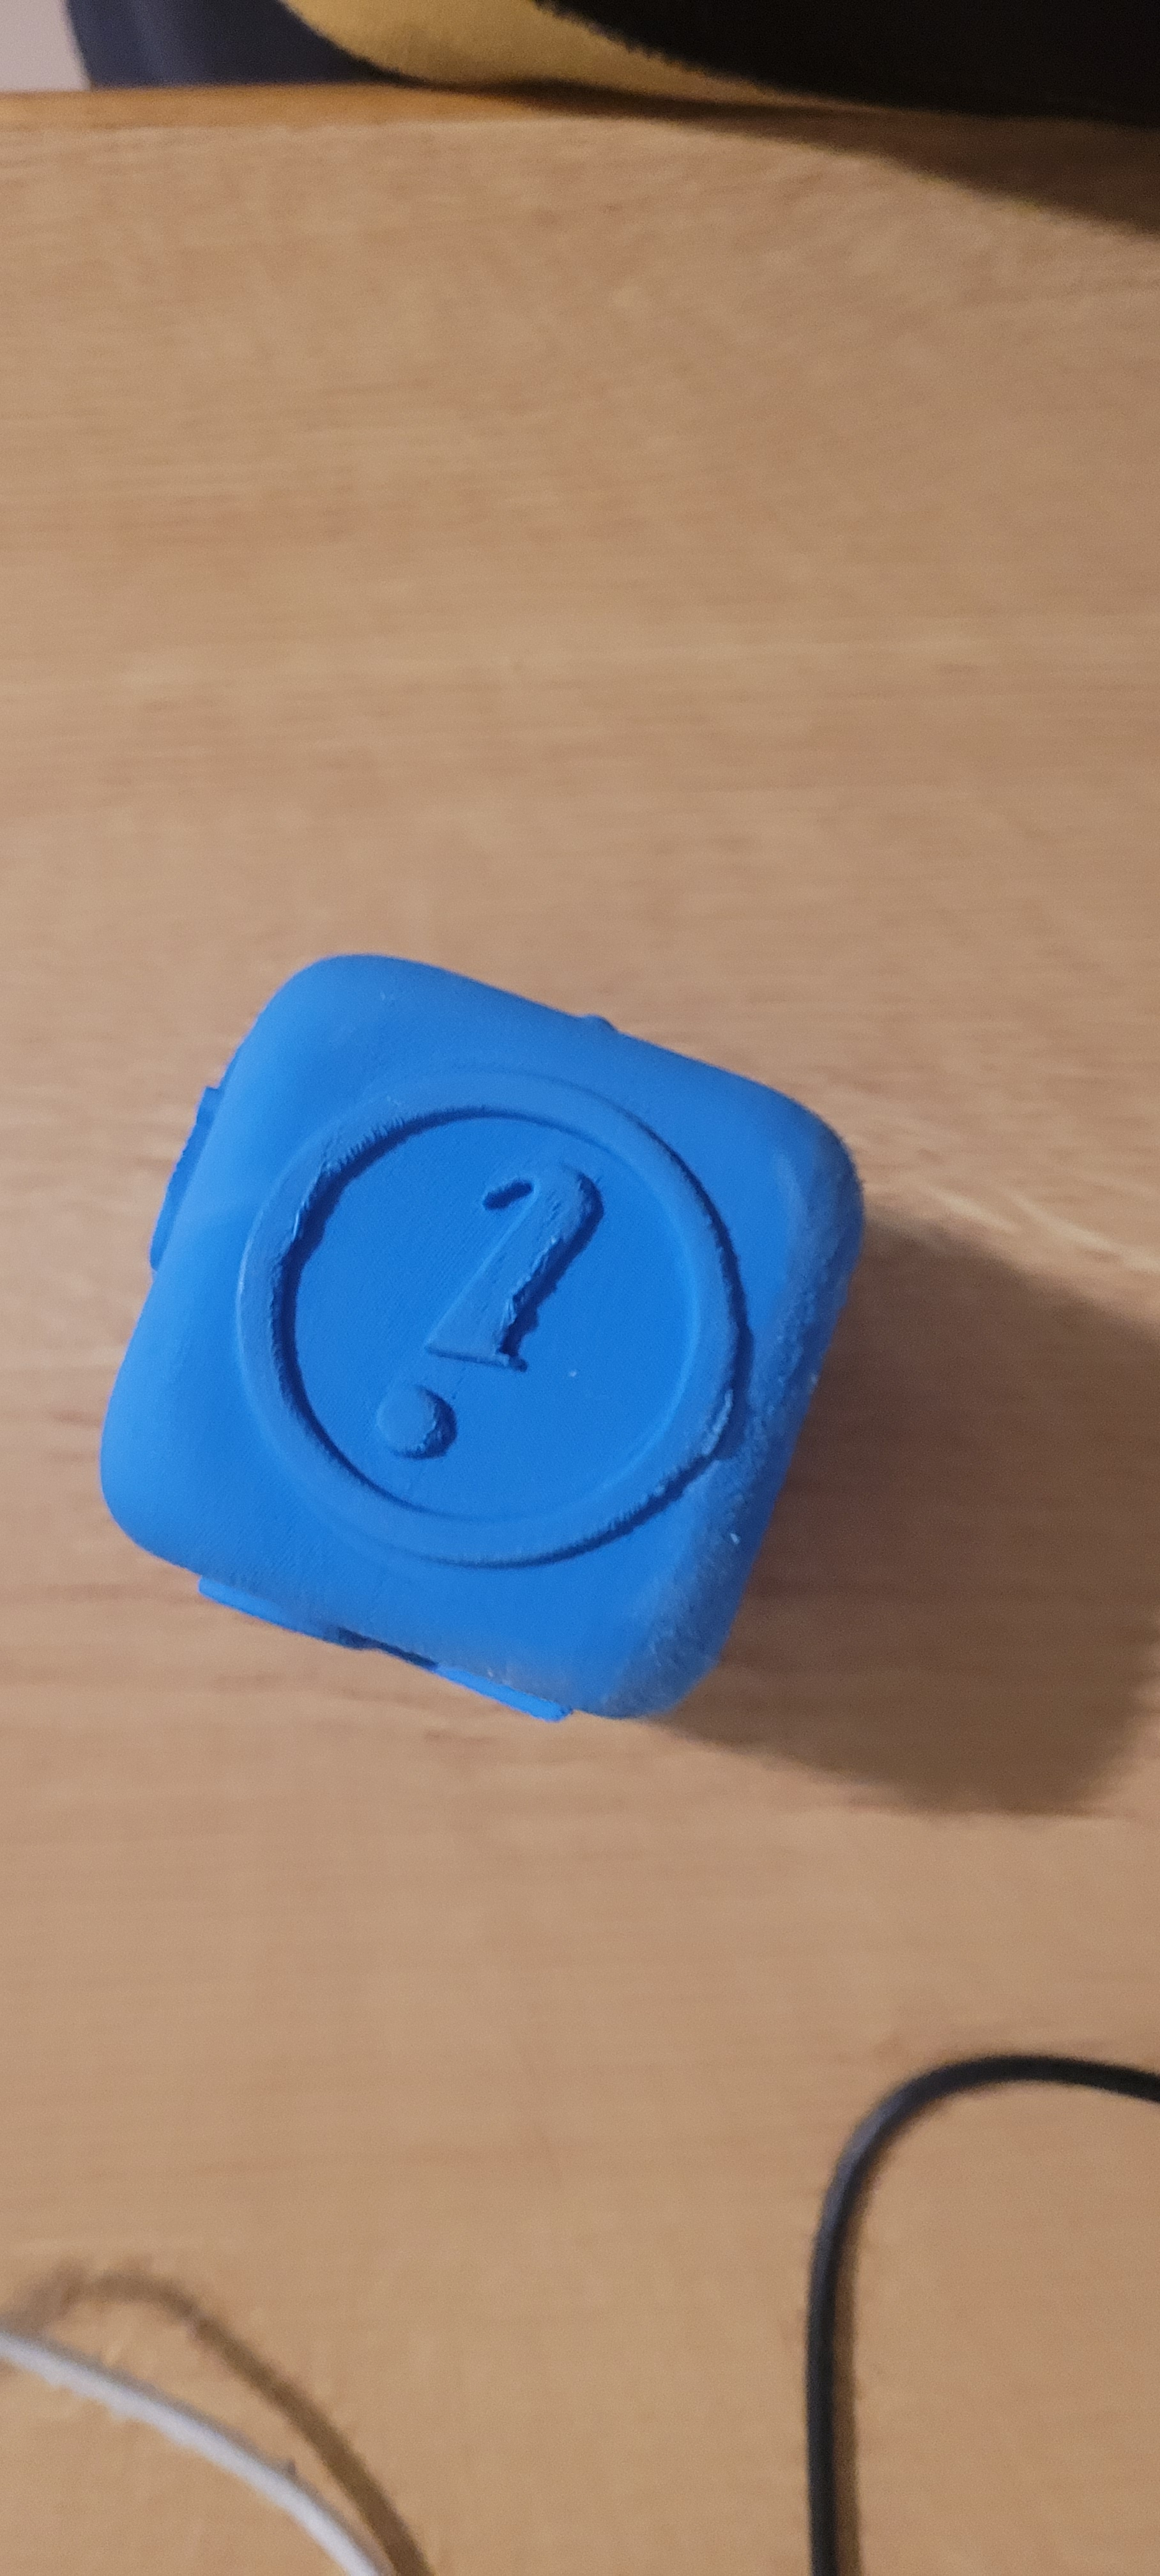Info: (242, 1007, 771, 1589)
